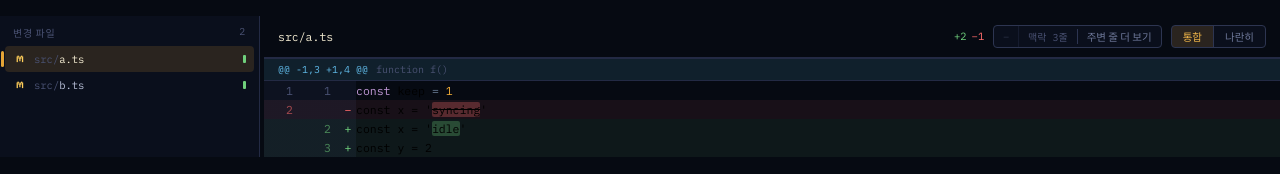
Test case: DiffExplorer — 주변 줄 더 보기(context 단계) › 파일을 전환하면 context가 3줄로 리셋되어 새 파일을 context=3으로 조회
Expected: the text "function f()" is shown, [376,62,448,76]
Note: a.ts 를 25줄까지 올린다.
Click the button titled "주변 줄 더 보기": click(1119, 36) [1078,26,1161,46]
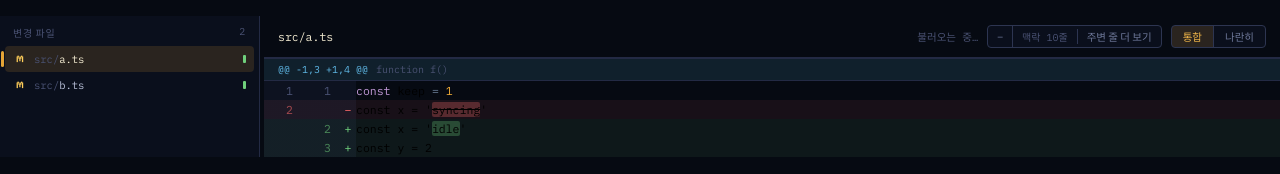
Click the button titled "주변 줄 더 보기": click(1119, 36) [1078,26,1161,46]
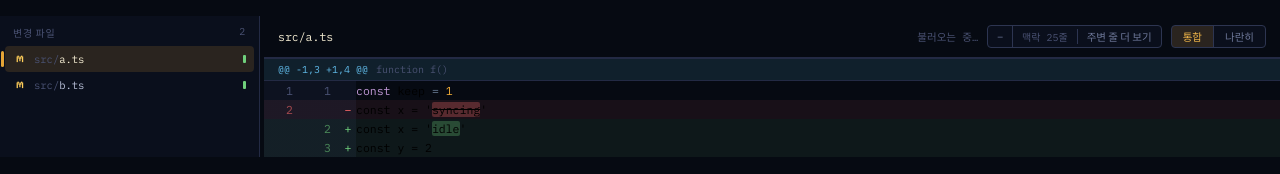
Now the text "맥락 25줄" is shown, box [1022,30,1068,44]
Note: b.ts 로 전환 → ctxStep 리셋 → context 3 으로 새 파일 조회
Click the text "b.ts": click(72, 84) [59,78,84,92]
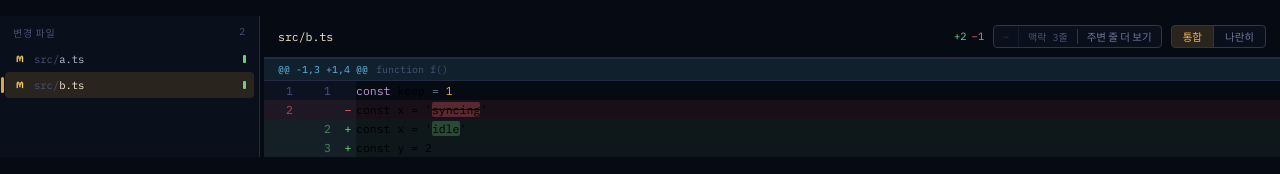
Now the text "맥락 3줄" is shown, box [1028,30,1068,44]
